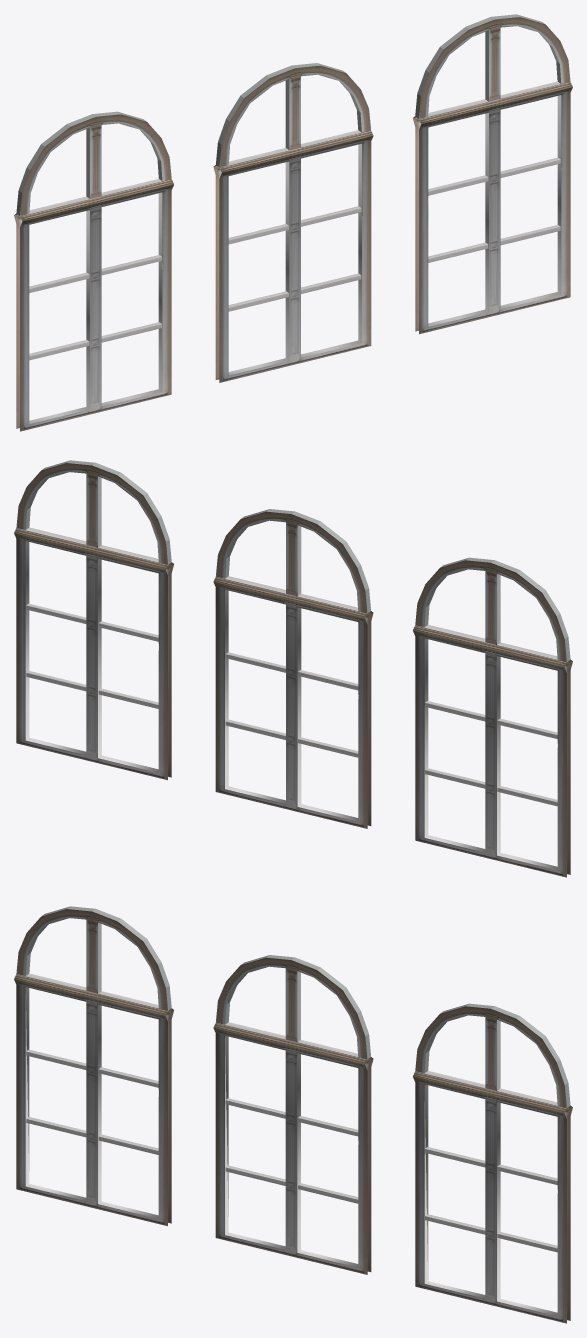
Rendered from WindowRounded3A.fbx.
3 renders of one model, top to bottom at view 1: azimuth 30°, elevation 25°; view 2: azimuth 150°, elevation 25°; view 3: azimuth 330°, elevation 25°, orthographic.
Visible parts, largest first — view 1: WindowRounded3A; view 2: WindowRounded3A; view 3: WindowRounded3A.
Boxes of the visible parts, left/top/right/bottom form: WindowRounded3A: left=14, top=14, right=572, bottom=431; WindowRounded3A: left=14, top=460, right=572, bottom=877; WindowRounded3A: left=14, top=906, right=572, bottom=1323.
Size of the model in its own units: 508 by 261 by 13.57.
